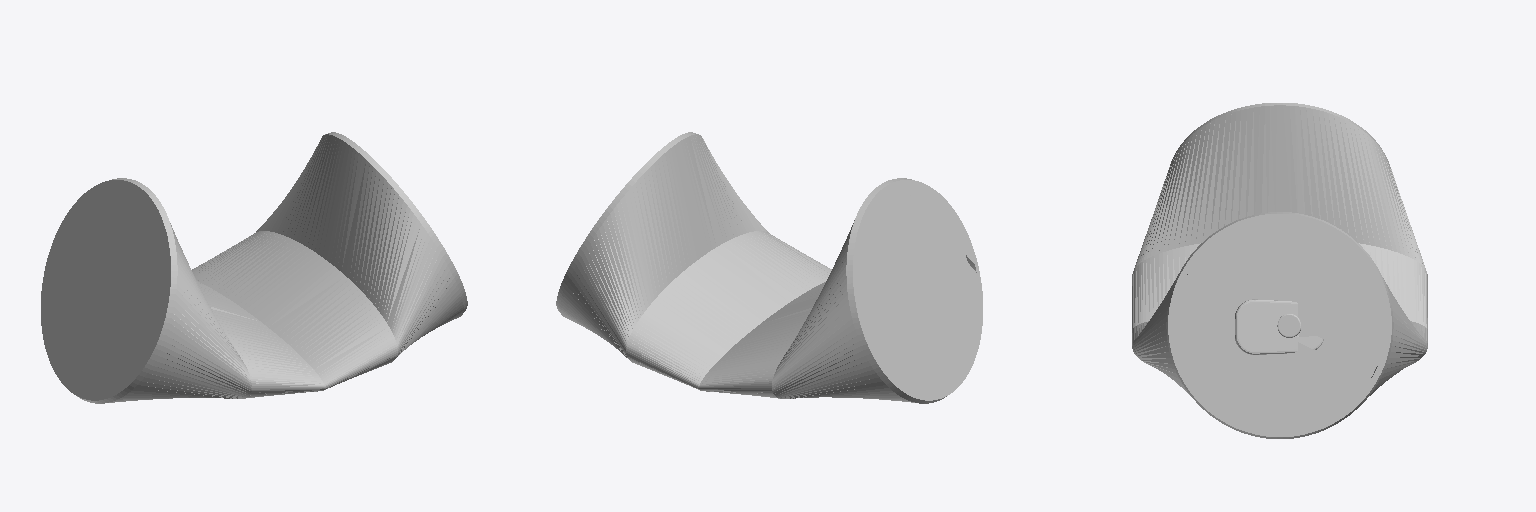
Rendered from canblue.obj.
3 renders of one model, left to right at view 1: azimuth 30°, elevation 25°; view 2: azimuth 150°, elevation 25°; view 3: azimuth 270°, elevation 25°, orthographic.
Visible parts, largest first — view 1: 円柱.004; view 2: 円柱.004; view 3: 円柱.004.
Boxes of the visible parts, x1=… form: 円柱.004: x1=41, y1=132, x2=467, y2=403; 円柱.004: x1=556, y1=132, x2=982, y2=403; 円柱.004: x1=1132, y1=103, x2=1427, y2=438.
Size of the model in its own units: 2.78 by 1.4 by 1.93.